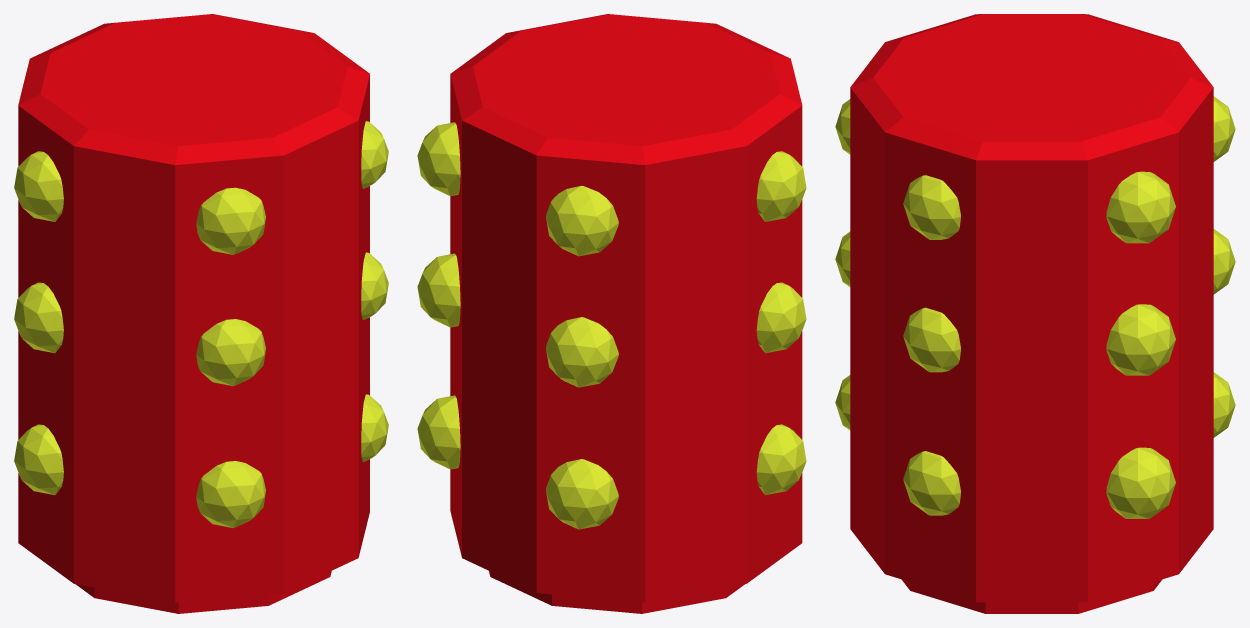
The model's file is obstacle_2.fbx.
The picture shows the model from 3 angles, left to right: view 1: azimuth 30°, elevation 25°; view 2: azimuth 150°, elevation 25°; view 3: azimuth 270°, elevation 25°; orthographic projection.
Parts seen in each view (by area): view 1: Icosphere.001; view 2: Icosphere.001; view 3: Icosphere.001.
Part boxes in pixels (left/top/right/bottom): Icosphere.001: left=14, top=14, right=388, bottom=613; Icosphere.001: left=417, top=14, right=806, bottom=613; Icosphere.001: left=835, top=14, right=1235, bottom=613.
Bounding box in the file's own units: 2.09 × 2.89 × 2.2.
